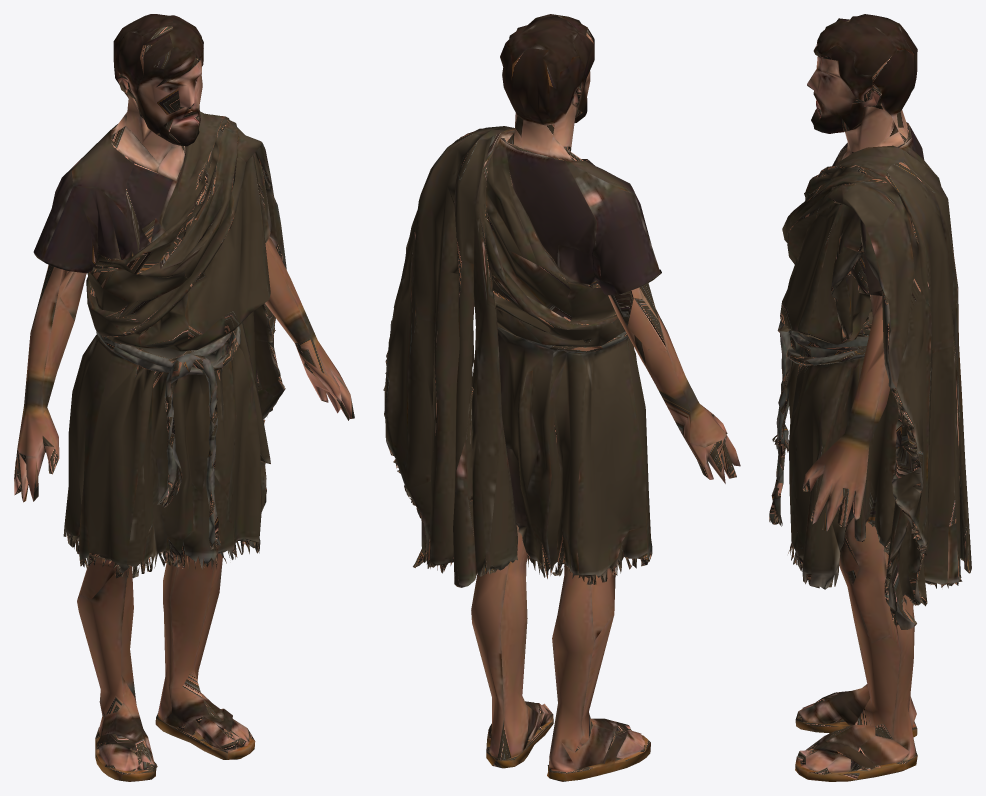
File: plebeyo.glb
The picture shows the model from 3 angles, left to right: view 1: azimuth 30°, elevation 25°; view 2: azimuth 150°, elevation 25°; view 3: azimuth 270°, elevation 25°; orthographic projection.
Parts seen in each view (by area): view 1: plebeyo; view 2: plebeyo; view 3: plebeyo.
Boxes of the visible parts, x1=… form: plebeyo: x1=14, y1=14, x2=354, y2=781; plebeyo: x1=383, y1=14, x2=740, y2=781; plebeyo: x1=769, y1=14, x2=971, y2=781.
Bounding box in the file's own units: 0.8579 × 1.8 × 0.4536.
1 material, 1 textured.
